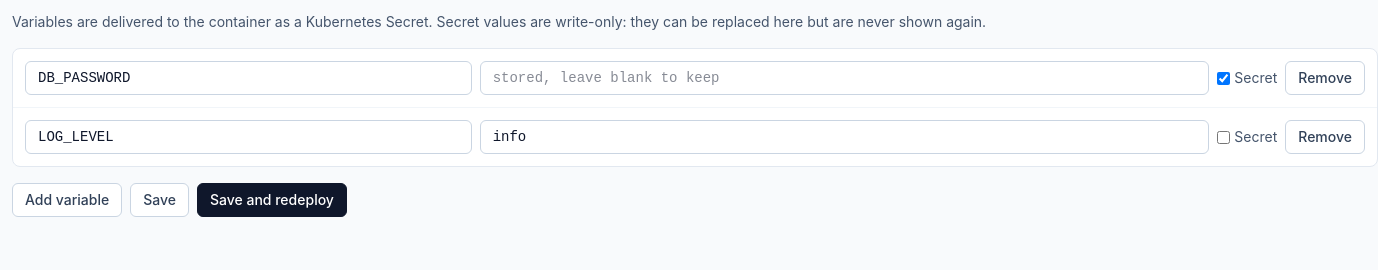
Test case: EnvTab › never shows a stored secret and keeps it when saving other changes
The width and height of the screenshot is (1378, 270).
Expected: the password field named "Value of DB_PASSWORD" is empty, [480,61,1209,95]
Replace the text in the field named "Value of LOG_LEVEL" with "debug" at [845, 137], box [480,120,1209,154]
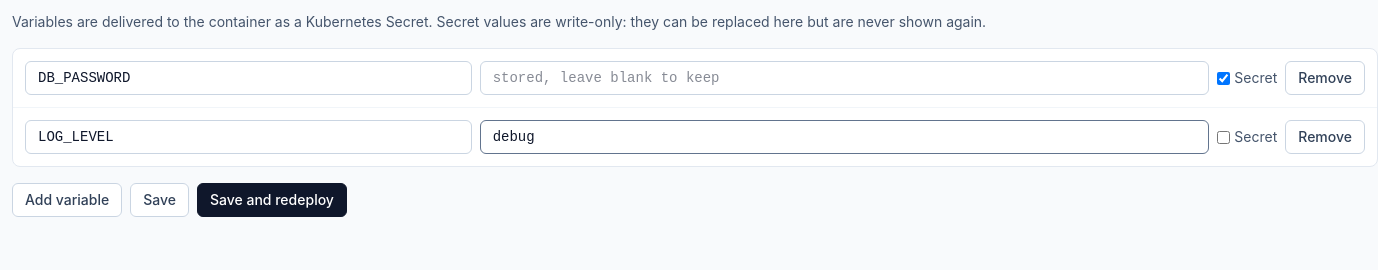
Click the button "Save".
click(160, 200)  # box [130,183,189,217]
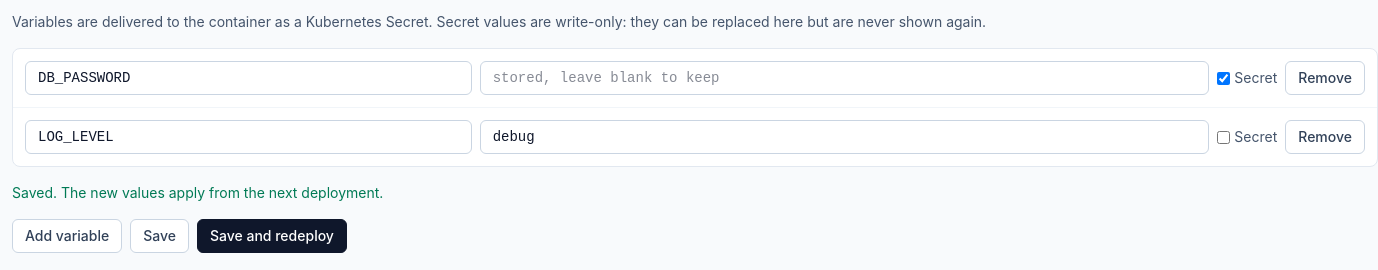
Expected: the text "Saved. The new values apply from the next deployment." is shown, [12,184,383,201]
